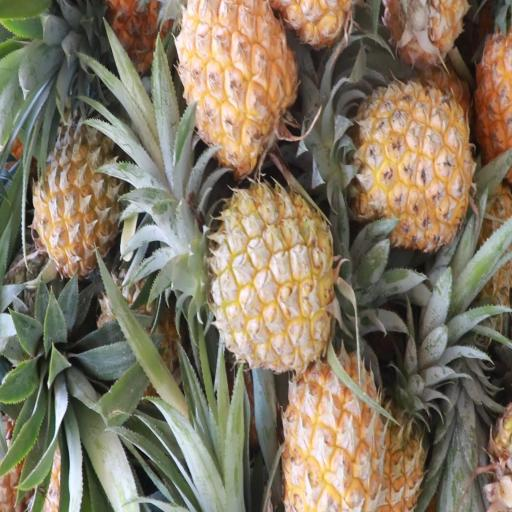Pineapple - v8 v1: (200, 178, 338, 380), (331, 79, 476, 252), (278, 295, 388, 512), (170, 0, 290, 175), (32, 91, 116, 276)
